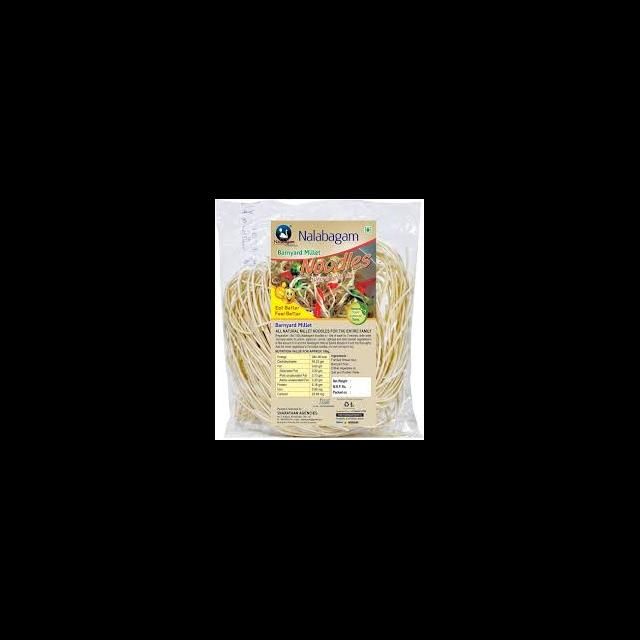noodles: (221, 201, 421, 440)
